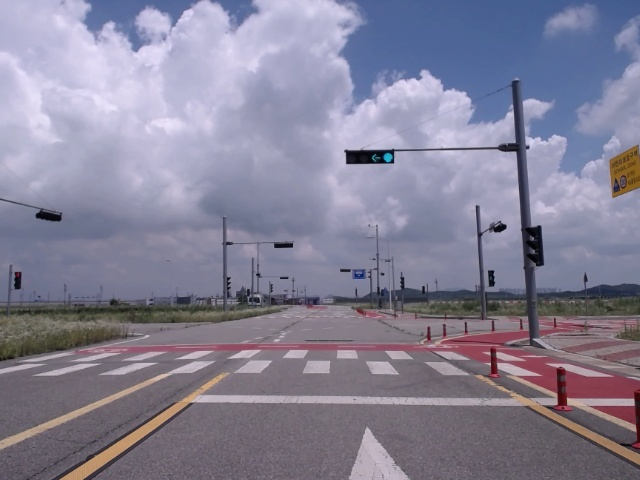all_green_4: (346, 151, 398, 164)
